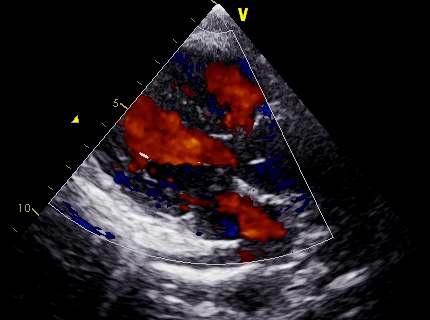AR: (179, 126, 258, 177)
